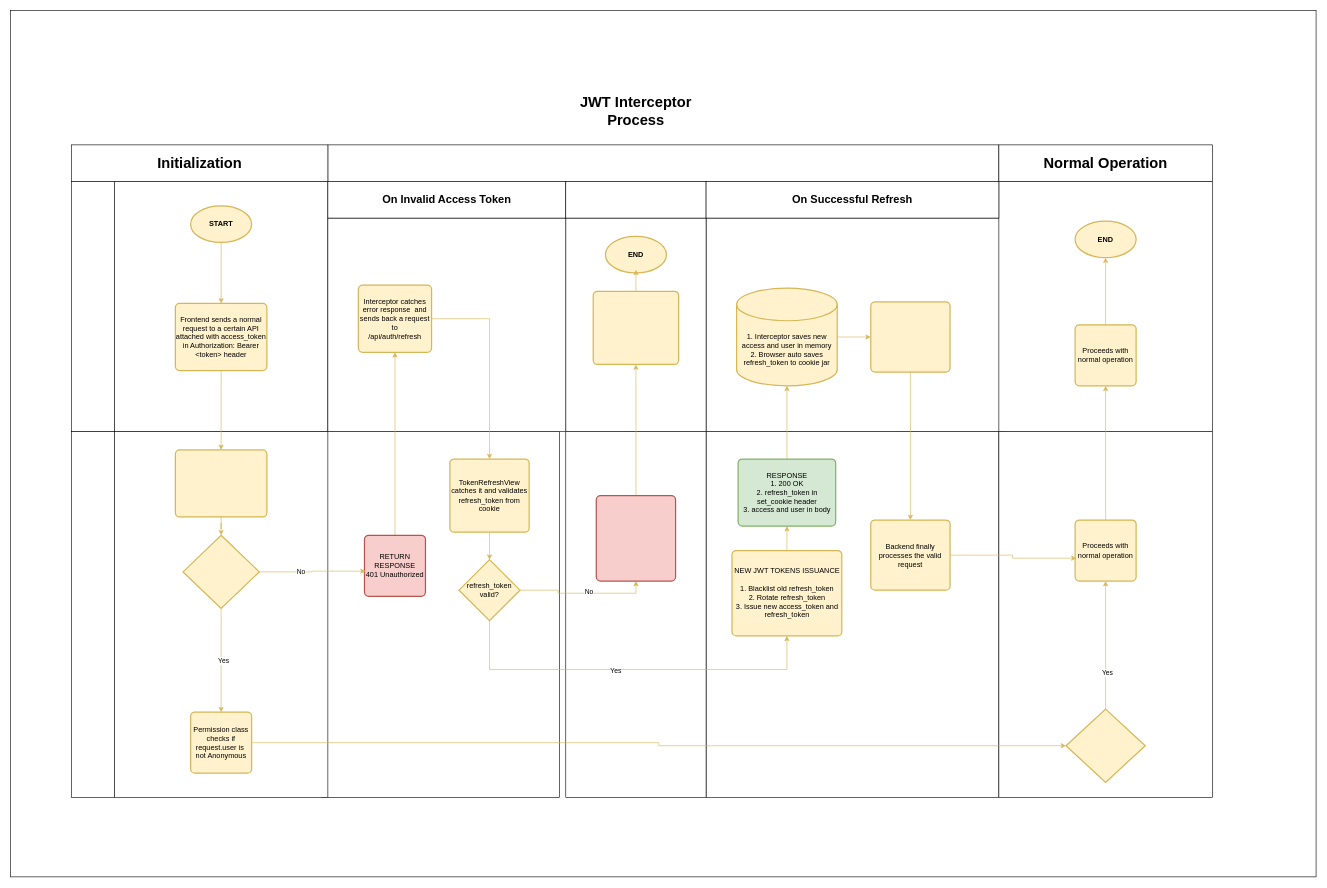
This 1327x888 diagram has some shape labels left out. The shapes that lost their labels are listed below. From the top down, each one's centre as x and y in pixels, then its label:
At pixel 663 162: "Interception".
At pixel 635 199: "On Invalid Refresh Token".
At pixel 92 306: "FRONTEND".
At pixel 635 327: "1. Set accessToken state to null 2. Redirects user to /api/auth/login/".
At pixel 910 336: "Sends the request again with a new access_token".
At pixel 220 483: "JWTAuthentication class checks if access_token is valid".
At pixel 635 538: "RETURN RESPONSE 1. 401 Unauthorized 2. Delete refresh_token cookie".
At pixel 221 571: "access_token not expired?".
At pixel 92 614: "BACKEND".
At pixel 1105 745: "request.user is not Anonymous?".
